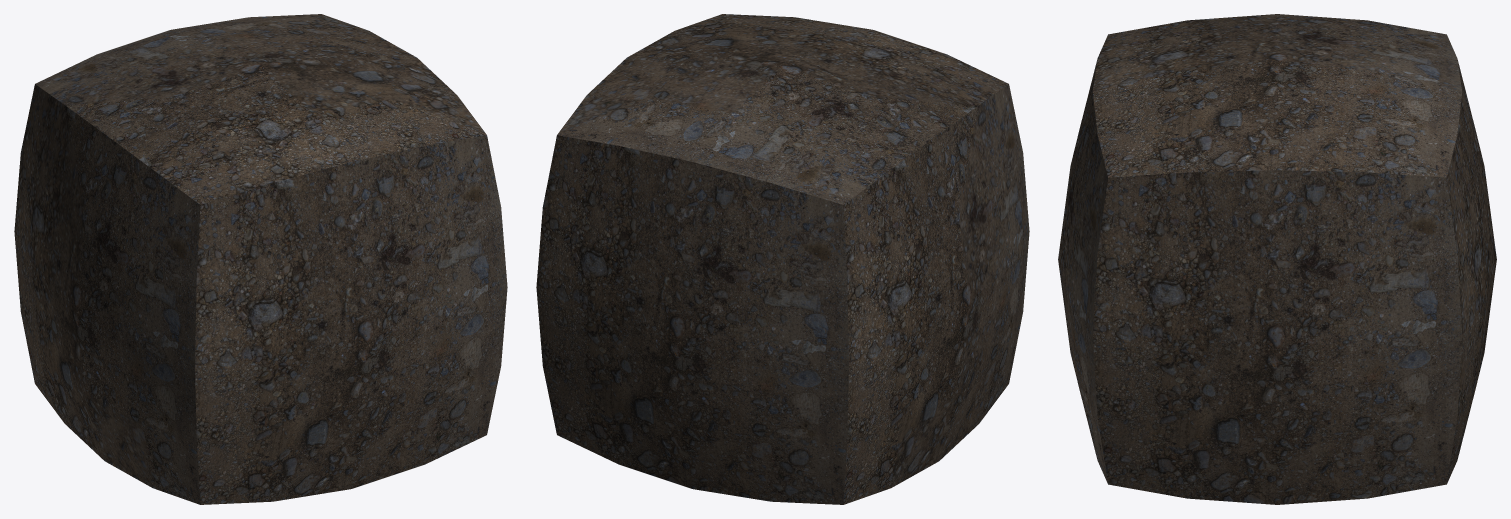
Rendered from tunnel_tile_blocker.dae.
3 views of the same model, side by side, from view 1: azimuth 30°, elevation 25°; view 2: azimuth 150°, elevation 25°; view 3: azimuth 270°, elevation 25° (orthographic). The views are drawn at different scales.
Visible parts, largest first — view 1: Blocker; view 2: Blocker; view 3: Blocker.
Boxes of the visible parts, bbox=[...] form: Blocker: bbox=[14, 14, 507, 504]; Blocker: bbox=[536, 14, 1029, 504]; Blocker: bbox=[1058, 14, 1496, 504].
Size of the model in its own units: 755 by 755 by 755.
Materials: 1 (1 with a texture image).
